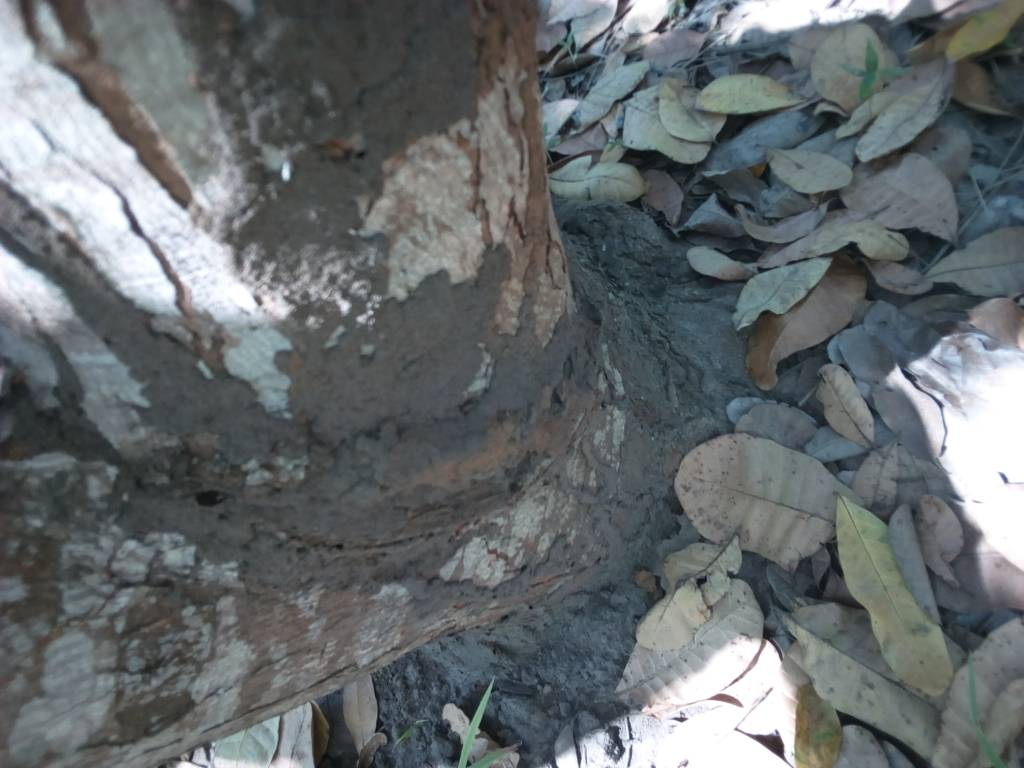Termites: (150, 275, 671, 604)
